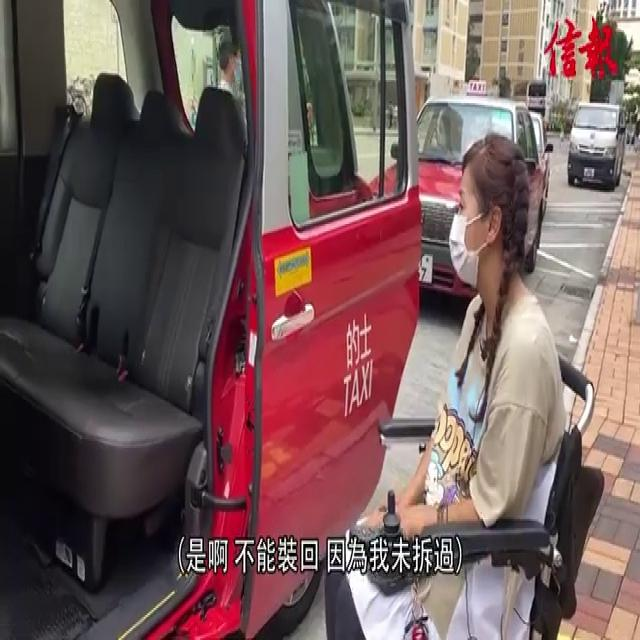wheelchairs: (346, 342, 615, 632)
